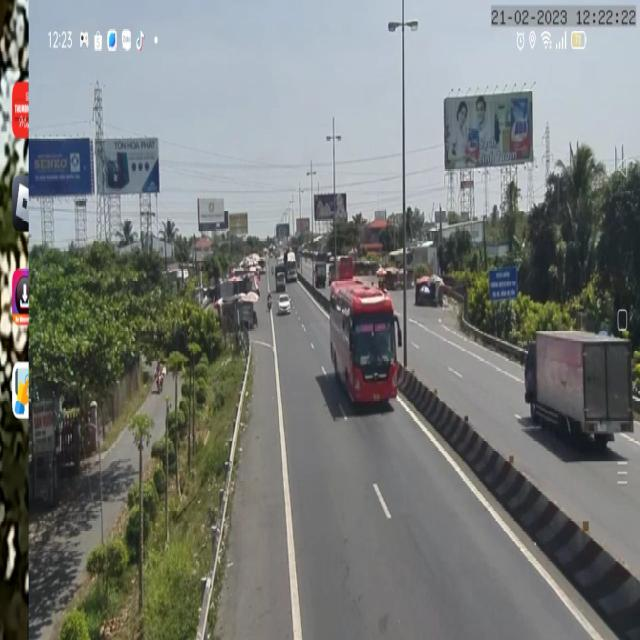bus: (329, 277, 401, 411)
car: (275, 295, 291, 316)
truck: (523, 322, 634, 449), (284, 251, 297, 283), (274, 264, 287, 293)
